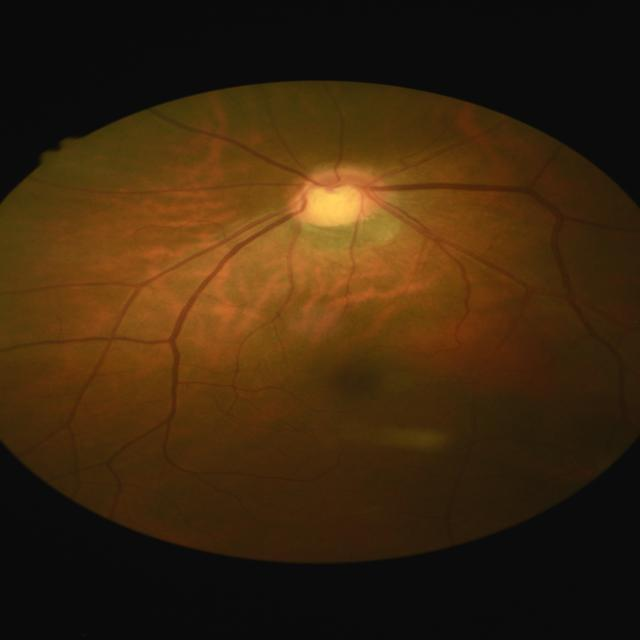cup: (306, 178, 363, 218)
disk: (288, 166, 384, 226)
